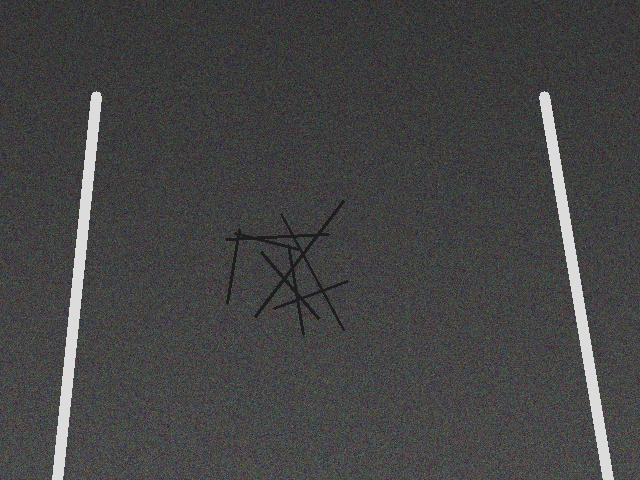D20: (220, 184, 350, 340)
